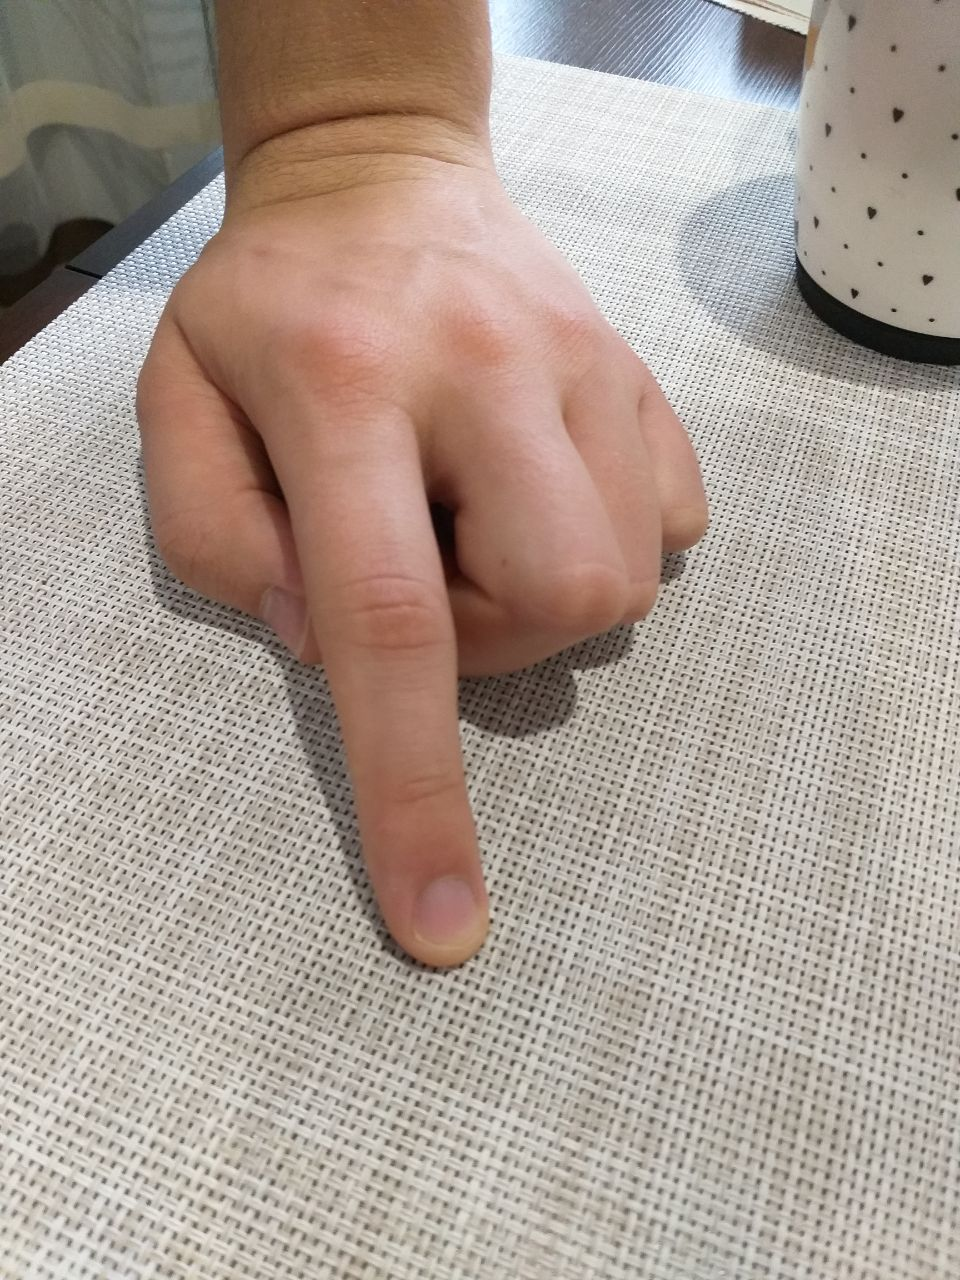finger: (369, 853, 489, 963)
